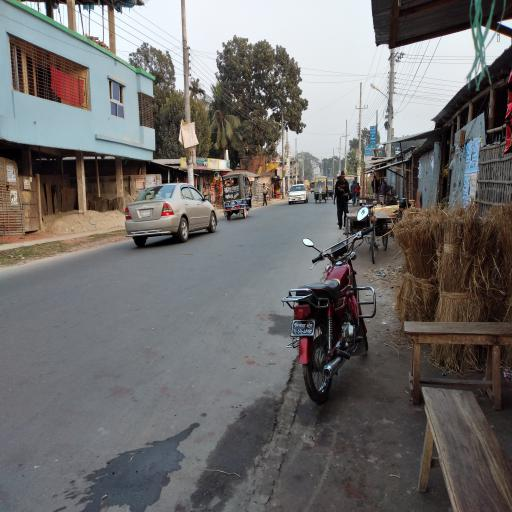auto rickshaw: (219, 174, 255, 224), (342, 173, 358, 205), (314, 178, 328, 205), (328, 178, 335, 202), (311, 182, 316, 195)
car: (124, 184, 221, 249), (288, 184, 311, 208)
motorbike: (278, 225, 380, 406)
truck: (305, 180, 311, 190)
